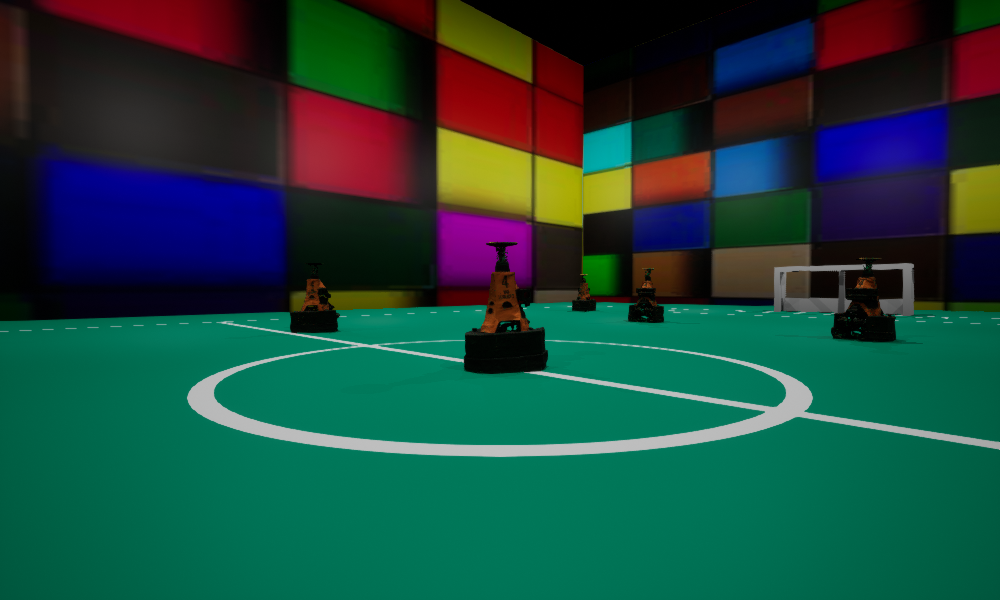o: (464, 242, 547, 373), (831, 258, 895, 341), (290, 263, 339, 332), (628, 268, 663, 321), (572, 274, 595, 311)
